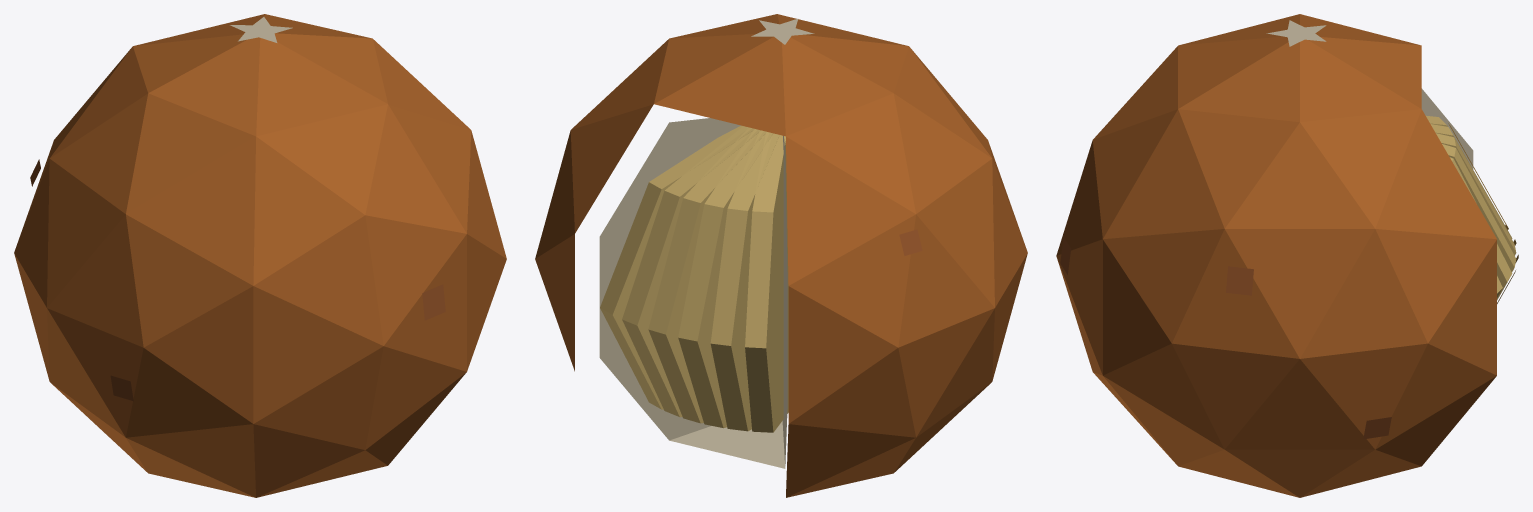
File: orange_volcano.glb
3 views of the same model, side by side, from view 1: azimuth 30°, elevation 25°; view 2: azimuth 150°, elevation 25°; view 3: azimuth 270°, elevation 25° (orthographic).
Parts seen in each view (by area): view 1: 735-orange; view 2: 735-orange; view 3: 735-orange.
Boxes of the visible parts, box(x1,y1,x2,y2) form: 735-orange: box(14, 14, 506, 497); 735-orange: box(535, 14, 1027, 497); 735-orange: box(1056, 14, 1518, 497).
Size of the model in its own units: 0.08 by 0.0803 by 0.0759.
